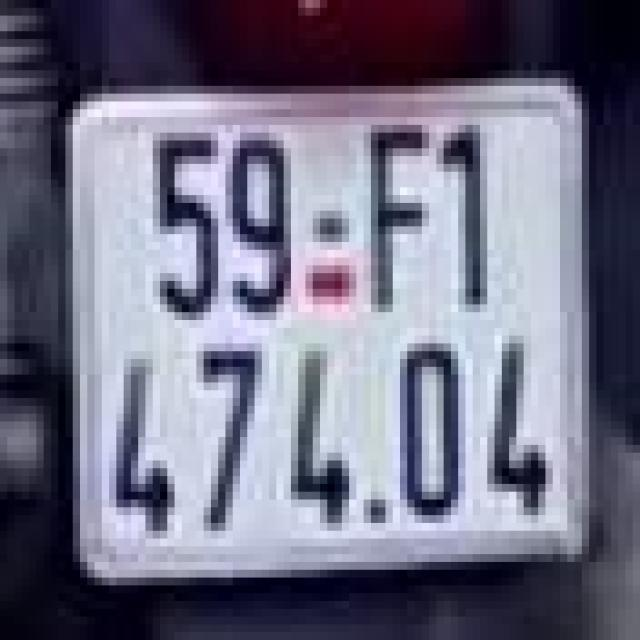0: (389, 340, 484, 534)
1: (433, 121, 520, 308)
4: (480, 328, 567, 515), (280, 351, 367, 531), (109, 332, 182, 534)
5: (142, 121, 229, 324)
7: (192, 328, 272, 546)
9: (222, 125, 309, 328)
F: (360, 109, 447, 312)
